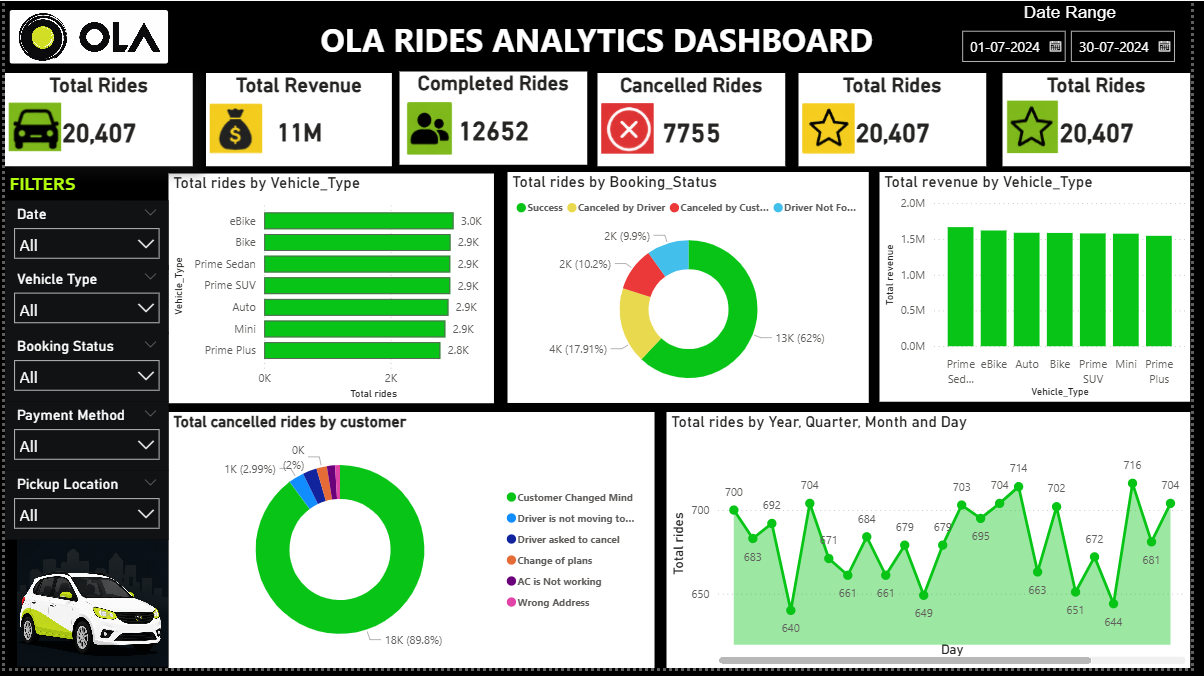

This screenshot's page, from the dashboard's own definition file:
{"tool":"powerbi","page":{"name":"Page 1","canvas":[1280,720],"ordinal":0},"visuals":[{"type":"barChart","title":"Total rides by Vehicle Type","fields":{"Y":["Bookings.Total rides"],"Category":["Bookings.Vehicle_Type"]},"box":[176.5,186.2,351.4,247.7],"z":0},{"type":"columnChart","title":"Total revenue by Vehicle Type","fields":{"Category":["Bookings.Vehicle_Type"],"Y":["Bookings.Total revenue"]},"box":[944,184.6,335.2,247.7],"z":1000},{"type":"donutChart","title":"Total rides by Booking Status","fields":{"Category":["Bookings.Booking_Status"],"Y":["Bookings.Total rides"]},"box":[542.4,184.6,390.2,249.4],"z":2000},{"type":"lineChart","fields":{"Y":["Bookings.Total rides"],"Category":["Bookings.Date.Variation.Date Hierarchy.Year","Bookings.Date.Variation.Date Hierarchy.Quarter","Bookings.Date.Variation.Date Hierarchy.Month","Bookings.Date.Variation.Date Hierarchy.Day"]},"box":[714.1,443.7,565.1,276.9],"z":3000},{"type":"donutChart","title":"Total cancelled rides by customer","fields":{"Category":["Bookings.canceled_by_customer"],"Y":["Bookings.Total cancelled rides"]},"box":[176.5,443.7,524.6,276.9],"z":4000},{"type":"card","title":"Total Rides","fields":{"Values":["Bookings.Total rides"]},"box":[0,77.7,202.4,100.4],"z":5000},{"type":"actionButton","box":[757.8,95.5,87.4,64.8],"z":6000},{"type":"actionButton","box":[0,95.5,64.8,81],"z":7000},{"type":"card","title":"Total Revenue","fields":{"Values":["Bookings.Total revenue"]},"box":[217,77.7,200.8,100.4],"z":8000},{"type":"actionButton","box":[217,97.2,64.8,81],"z":9000},{"type":"card","title":"Completed Rides","fields":{"Values":["Bookings.complete rides"]},"box":[425.9,76.1,202.4,100.4],"z":10000},{"type":"card","title":"Cancelled Rides","fields":{"Values":["Bookings.Canceled rides"]},"box":[639.6,77.7,202.4,100.4],"z":11000},{"type":"card","title":"Avg Cuatomer Rating","fields":{"Values":["Sum(Bookings.Customer_Rating)"]},"box":[856.6,77.7,202.4,100.4],"z":12000},{"type":"card","title":"Avg Driver Rating","fields":{"Values":["Sum(Bookings.Driver_Ratings)"]},"box":[1076.8,77.7,202.4,100.4],"z":13000},{"type":"actionButton","box":[425.9,97.2,64.8,81],"z":14000},{"type":"actionButton","box":[639.6,97.2,64.8,81],"z":15000},{"type":"actionButton","box":[856.6,97.2,64.8,81],"z":16000},{"type":"actionButton","box":[1076.8,95.5,64.8,81],"z":17000},{"type":"slicer","title":"Date Range","fields":{"Values":["Bookings.Date"]},"box":[1020.1,1.6,259.1,76.1],"z":18000},{"type":"shape","title":"FILTERS","box":[4.9,184.6,118.2,30.8],"z":19000},{"type":"slicer","fields":{"Values":["Bookings.Date"]},"box":[0,215.4,176.5,74.5],"z":20000},{"type":"slicer","title":"Vehicle Type","fields":{"Values":["Bookings.Vehicle_Type"]},"box":[0,285,176.5,74.5],"z":21000},{"type":"slicer","fields":{"Values":["Bookings.Booking_Status"]},"box":[0,357.8,176.5,74.5],"z":22000},{"type":"slicer","fields":{"Values":["Bookings.Payment_Method"]},"box":[0,432.3,176.5,74.5],"z":23000},{"type":"slicer","fields":{"Values":["Bookings.Pickup_Location"]},"box":[0,506.8,176.5,74.5],"z":24000},{"type":"image","box":[4.9,9.7,171.6,58.3],"z":25000},{"type":"image","box":[13,581.3,163.5,137.6],"z":26000},{"type":"shape","title":"OLA RIDES ANALYTICS DASHBOARD","box":[312.5,17.8,652.5,43.7],"z":27000}]}

Visuals, with their boxes in screenshot pixels (x1, y1, x2, y2), scaled from the page's 1280x720 canvas onto the 1204x676 screenshot:
"Total rides by Vehicle Type" barChart: <region>166, 175, 497, 407</region>
"Total revenue by Vehicle Type" columnChart: <region>888, 173, 1203, 406</region>
"Total rides by Booking Status" donutChart: <region>510, 173, 877, 407</region>
lineChart - Bookings.Total rides x Bookings.Date.Variation.Date Hierarchy.Year: <region>672, 417, 1203, 675</region>
"Total cancelled rides by customer" donutChart: <region>166, 417, 659, 675</region>
"Total Rides" card: <region>0, 73, 190, 167</region>
actionButton: <region>713, 90, 795, 151</region>
actionButton: <region>0, 90, 61, 166</region>
"Total Revenue" card: <region>204, 73, 393, 167</region>
actionButton: <region>204, 91, 265, 167</region>
"Completed Rides" card: <region>401, 71, 591, 166</region>
"Cancelled Rides" card: <region>602, 73, 792, 167</region>
"Avg Cuatomer Rating" card: <region>806, 73, 996, 167</region>
"Avg Driver Rating" card: <region>1013, 73, 1203, 167</region>
actionButton: <region>401, 91, 462, 167</region>
actionButton: <region>602, 91, 663, 167</region>
actionButton: <region>806, 91, 867, 167</region>
actionButton: <region>1013, 90, 1074, 166</region>
"Date Range" slicer: <region>960, 2, 1203, 73</region>
"FILTERS" shape: <region>5, 173, 116, 202</region>
slicer - Bookings.Date: <region>0, 202, 166, 272</region>
"Vehicle Type" slicer: <region>0, 268, 166, 338</region>
slicer - Bookings.Booking_Status: <region>0, 336, 166, 406</region>
slicer - Bookings.Payment_Method: <region>0, 406, 166, 476</region>
slicer - Bookings.Pickup_Location: <region>0, 476, 166, 546</region>
image: <region>5, 9, 166, 64</region>
image: <region>12, 546, 166, 675</region>
"OLA RIDES ANALYTICS DASHBOARD" shape: <region>294, 17, 908, 58</region>
